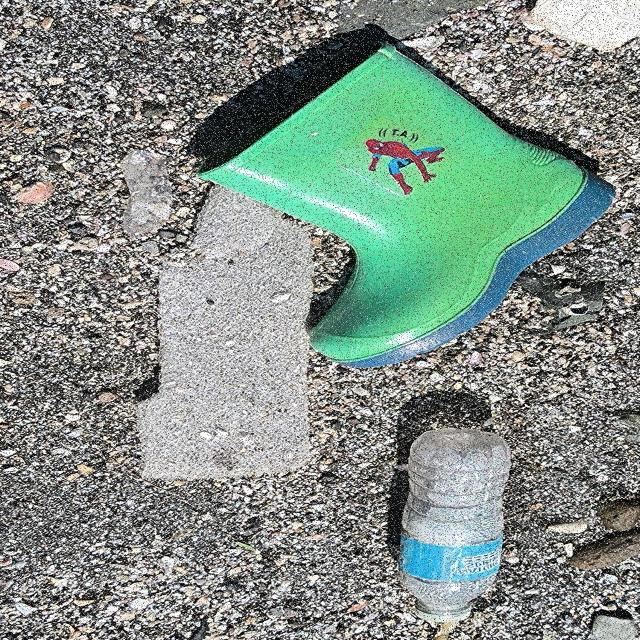plastic_waste: (392, 427, 514, 625)
rubber_waste: (194, 38, 621, 372)
